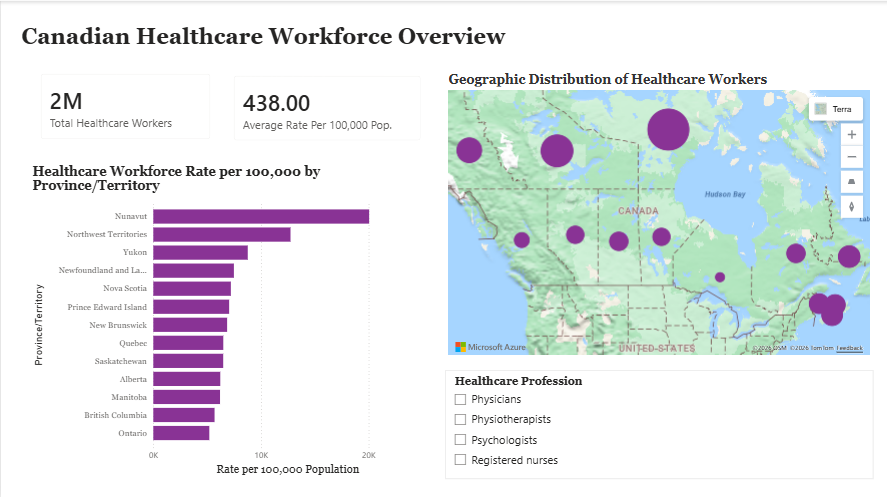

Layout of this report page (visuals, bound fields, positions):
{"tool":"powerbi","page":{"name":"Canadian Healthcare Workforce Overview","canvas":[1280,720],"ordinal":0},"visuals":[{"type":"azureMap","title":"Geographic Distribution of Healthcare Workers","fields":{"Category":["Profession.Province/Territory"],"Size":["Sum(Profession.Rate (per 100,000))"]},"box":[640,101.7,616.7,411.7],"z":0},{"type":"cardVisual","title":"Avg. Rate per 100,000","fields":{"Data":["Avg(Profession.Rate (per 100,000))"]},"box":[318.2,90.3,303.4,127.3],"z":1000},{"type":"cardVisual","title":"Total Healthcare Workers","fields":{"Data":["Sum(Profession.Count)"]},"box":[40,88.3,278.3,128.3],"z":2000},{"type":"clusteredBarChart","title":"Healthcare Workforce Rate per 100,000 by Province/Territory","fields":{"Category":["Profession.Province/Territory"],"Y":["Sum(Profession.Rate (per 100,000))"]},"box":[40,235,581.7,453.3],"z":3000},{"type":"slicer","fields":{"Values":["Profession.Profession"]},"box":[640,531.7,616.7,156.7],"z":4000},{"type":"textbox","box":[0,23.7,588.9,40],"z":5000},{"type":"textbox","box":[25,26.7,845,75],"z":6000}]}

Visuals, with their boxes in screenshot pixels (x1, y1, x2, y2), scaled from the page's 1280x720 canvas onto the 887x497 screenshot:
"Geographic Distribution of Healthcare Workers" azureMap: <region>444, 70, 871, 354</region>
"Avg. Rate per 100,000" cardVisual: <region>221, 62, 431, 150</region>
"Total Healthcare Workers" cardVisual: <region>28, 61, 221, 150</region>
"Healthcare Workforce Rate per 100,000 by Province/Territory" clusteredBarChart: <region>28, 162, 431, 475</region>
slicer - Profession.Profession: <region>444, 367, 871, 475</region>
textbox: <region>0, 16, 408, 44</region>
textbox: <region>17, 18, 603, 70</region>
